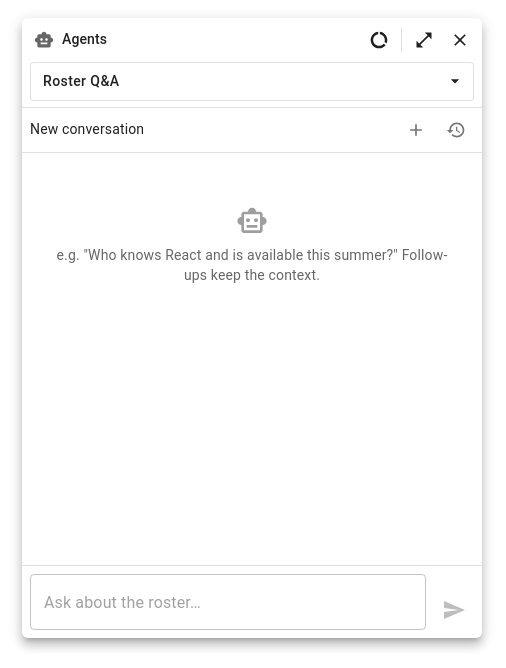
Test: the history drawer › groups rows by Today, This week and Older
Click the button named "Conversation history" at (456, 130), box x1=438 y1=112 x2=474 y2=148
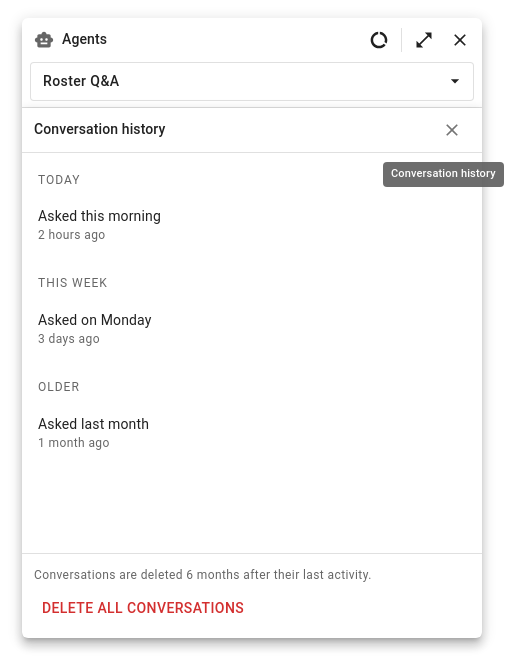
Expected: the headings read "Today", "This week", "Older", in this order, x1=38 y1=172 x2=80 y2=186; x1=38 y1=276 x2=108 y2=290; x1=38 y1=380 x2=80 y2=394
